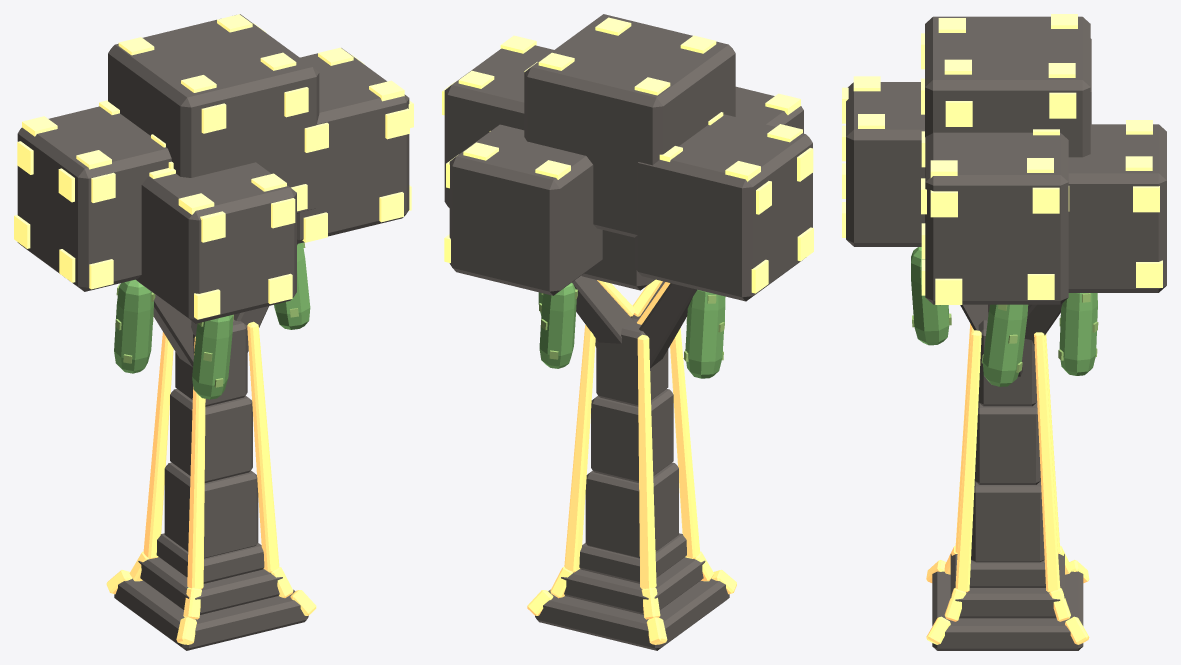
File: VolcanoMagmaTree.fbx
The picture shows the model from 3 angles, left to right: view 1: azimuth 30°, elevation 25°; view 2: azimuth 150°, elevation 25°; view 3: azimuth 270°, elevation 25°; orthographic projection. The views are drawn at different scales.
Parts seen in each view (by area): view 1: VolcanoMagmaTree.Crown, VolcanoMagmaTree.Trunk, VolcanoMagmaTree.CrownGlow, VolcanoMagmaTree.Veins, VolcanoMagmaTree.Cukes; view 2: VolcanoMagmaTree.Crown, VolcanoMagmaTree.Trunk, VolcanoMagmaTree.Veins, VolcanoMagmaTree.CrownGlow, VolcanoMagmaTree.Cukes; view 3: VolcanoMagmaTree.Crown, VolcanoMagmaTree.Trunk, VolcanoMagmaTree.CrownGlow, VolcanoMagmaTree.Veins, VolcanoMagmaTree.Cukes, VolcanoMagmaTree.CukeStuds.
Part boxes in pixels (x1=…): VolcanoMagmaTree.Crown: x1=17, y1=14, x2=409, y2=323; VolcanoMagmaTree.Trunk: x1=114, y1=244, x2=308, y2=650; VolcanoMagmaTree.CrownGlow: x1=14, y1=14, x2=413, y2=319; VolcanoMagmaTree.Veins: x1=106, y1=321, x2=316, y2=644; VolcanoMagmaTree.Cukes: x1=114, y1=243, x2=310, y2=399; VolcanoMagmaTree.Crown: x1=444, y1=14, x2=812, y2=301; VolcanoMagmaTree.Trunk: x1=535, y1=275, x2=729, y2=650; VolcanoMagmaTree.Veins: x1=527, y1=279, x2=736, y2=644; VolcanoMagmaTree.CrownGlow: x1=442, y1=17, x2=813, y2=293; VolcanoMagmaTree.Cukes: x1=538, y1=282, x2=725, y2=378; VolcanoMagmaTree.Crown: x1=846, y1=16, x2=1166, y2=304; VolcanoMagmaTree.Trunk: x1=932, y1=303, x2=1083, y2=650; VolcanoMagmaTree.CrownGlow: x1=842, y1=14, x2=1162, y2=304; VolcanoMagmaTree.Veins: x1=926, y1=323, x2=1089, y2=644; VolcanoMagmaTree.Cukes: x1=911, y1=247, x2=1097, y2=386; VolcanoMagmaTree.CukeStuds: x1=912, y1=293, x2=1098, y2=372.
Size of the model in its own units: 7.19 by 11.78 by 6.01.
